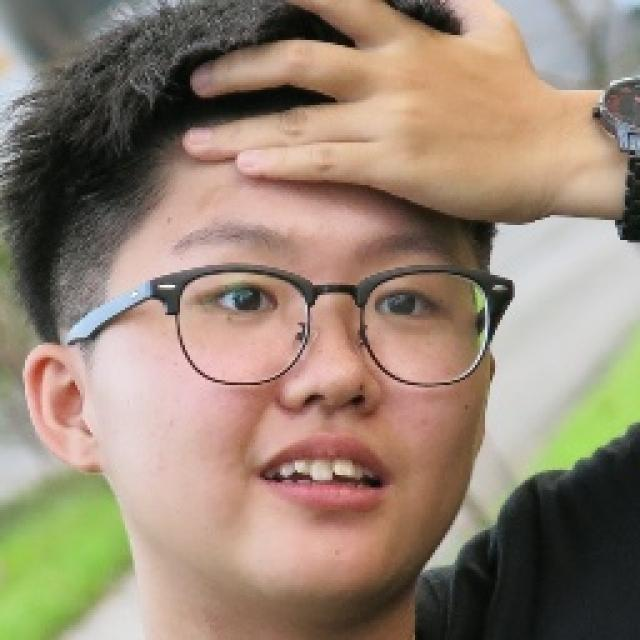earlobe: (62, 432, 103, 475)
eye: (210, 284, 281, 316), (368, 290, 432, 318)
nose: (292, 397, 363, 431)
wholeear: (23, 344, 103, 475)
